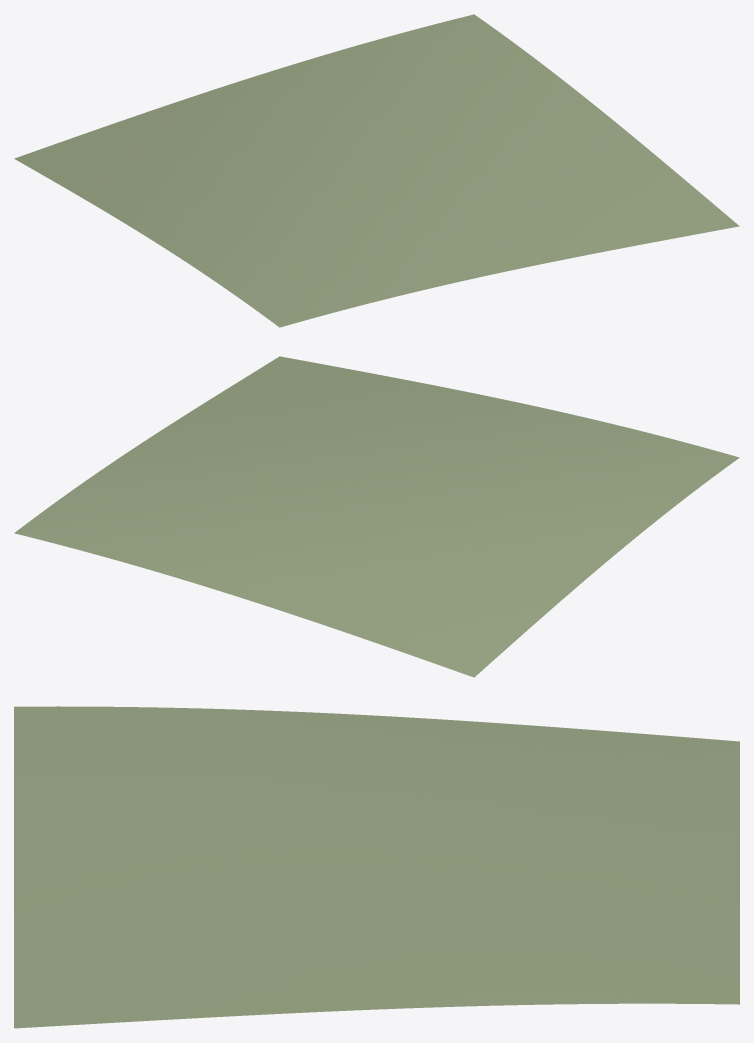
The model's file is alpine-1-9.glb.
3 views of the same model, one above another, from view 1: azimuth 30°, elevation 25°; view 2: azimuth 150°, elevation 25°; view 3: azimuth 270°, elevation 25° (orthographic). The views are drawn at different scales.
Visible parts, largest first — view 1: alpine-1-9; view 2: alpine-1-9; view 3: alpine-1-9.
Part boxes in pixels (x1,y1,x2,y2): alpine-1-9: (14, 14, 739, 327); alpine-1-9: (14, 356, 739, 677); alpine-1-9: (14, 706, 739, 1028).
Bounding box in the file's own units: 256 × 17.92 × 256.
